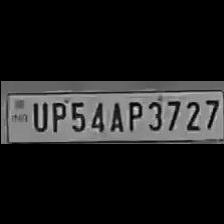2: (181, 96, 201, 130)
3: (144, 97, 162, 131)
4: (86, 97, 106, 132)
5: (66, 97, 86, 132)
7: (200, 95, 220, 129), (164, 96, 181, 130)
A: (105, 97, 123, 131)
P: (48, 98, 66, 132), (124, 97, 142, 131)
U: (27, 98, 47, 132)
